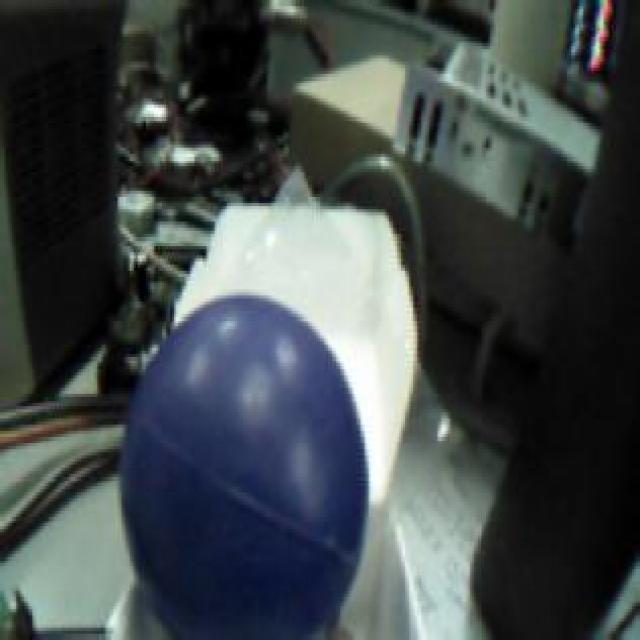BallPurple: (121, 292, 366, 640)
